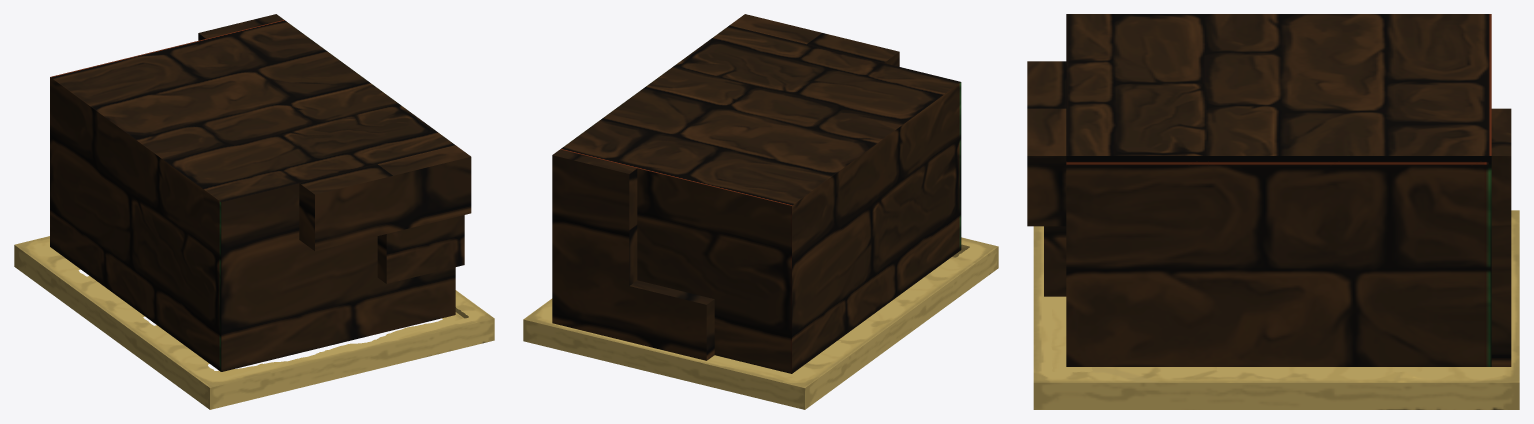
The model's file is pallet.FBX.
3 renders of one model, left to right at view 1: azimuth 30°, elevation 25°; view 2: azimuth 150°, elevation 25°; view 3: azimuth 270°, elevation 25°, orthographic. The views are drawn at different scales.
Parts seen in each view (by area): view 1: Box002, Box001; view 2: Box002, Box001; view 3: Box002, Box001.
Part boxes in pixels (box(x1,y1,x2,y2)): Box002: box(50, 14, 471, 371); Box001: box(14, 236, 494, 409); Box002: box(552, 14, 961, 373); Box001: box(523, 237, 998, 409); Box002: box(1027, 14, 1511, 366); Box001: box(1033, 210, 1519, 409).
Bounding box in the file's own units: 37.2 × 23.97 × 44.87.
